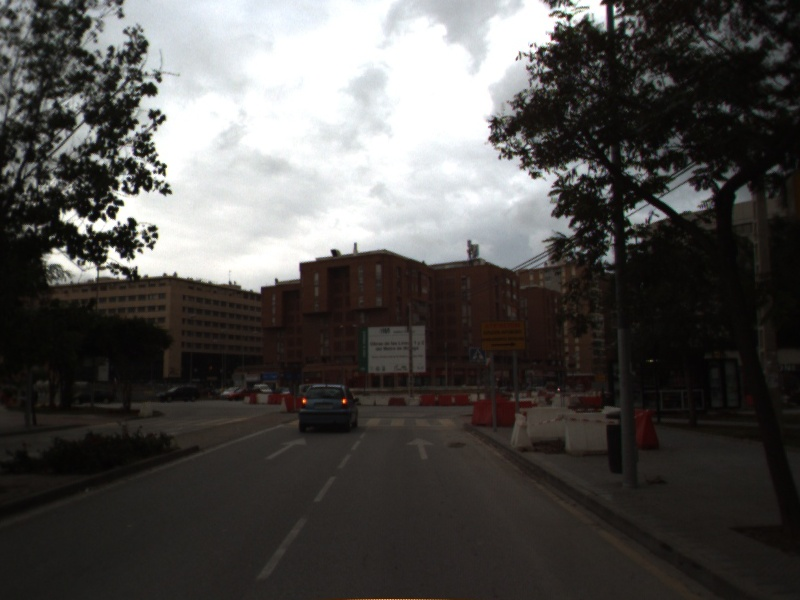STRAIGHT: (262, 435, 309, 461), (404, 435, 436, 461)
